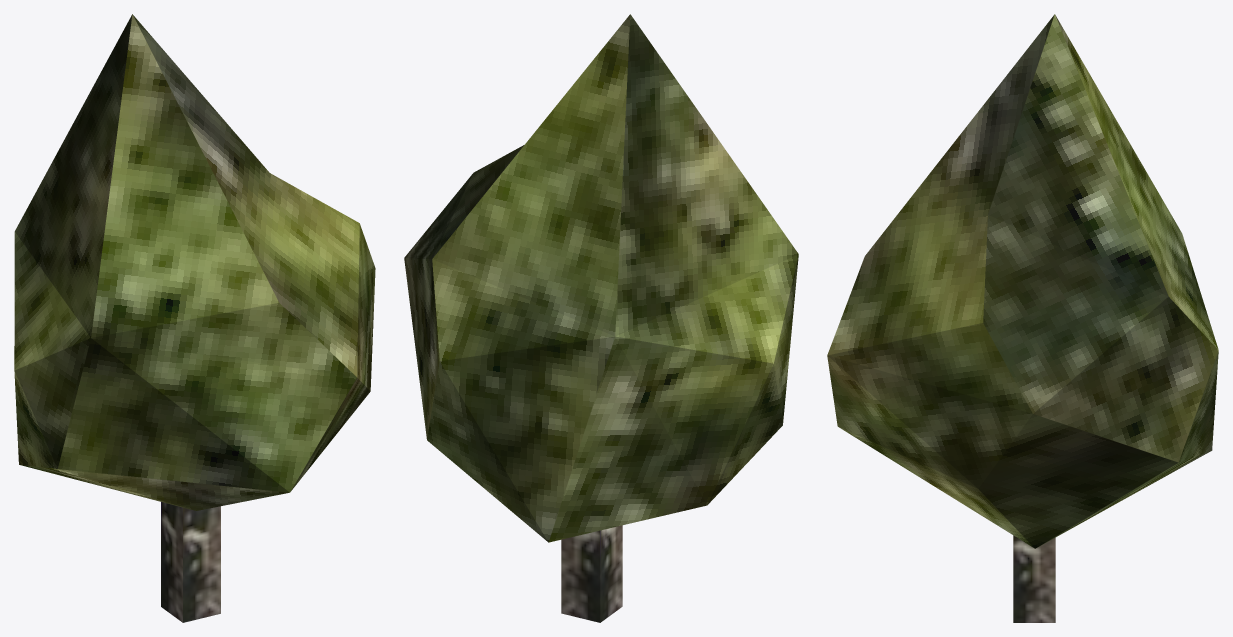
File: treebush.glb
The picture shows the model from 3 angles, left to right: view 1: azimuth 30°, elevation 25°; view 2: azimuth 150°, elevation 25°; view 3: azimuth 270°, elevation 25°; orthographic projection. The views are drawn at different scales.
Visible parts, largest first — view 1: Icosphere; view 2: Icosphere; view 3: Icosphere.
Boxes of the visible parts, x1=… form: Icosphere: x1=14, y1=14, x2=375, y2=622; Icosphere: x1=404, y1=14, x2=798, y2=622; Icosphere: x1=827, y1=14, x2=1218, y2=622.
Size of the model in its own units: 2.15 by 3.42 by 2.1.
Materials: 2 (2 with a texture image).
